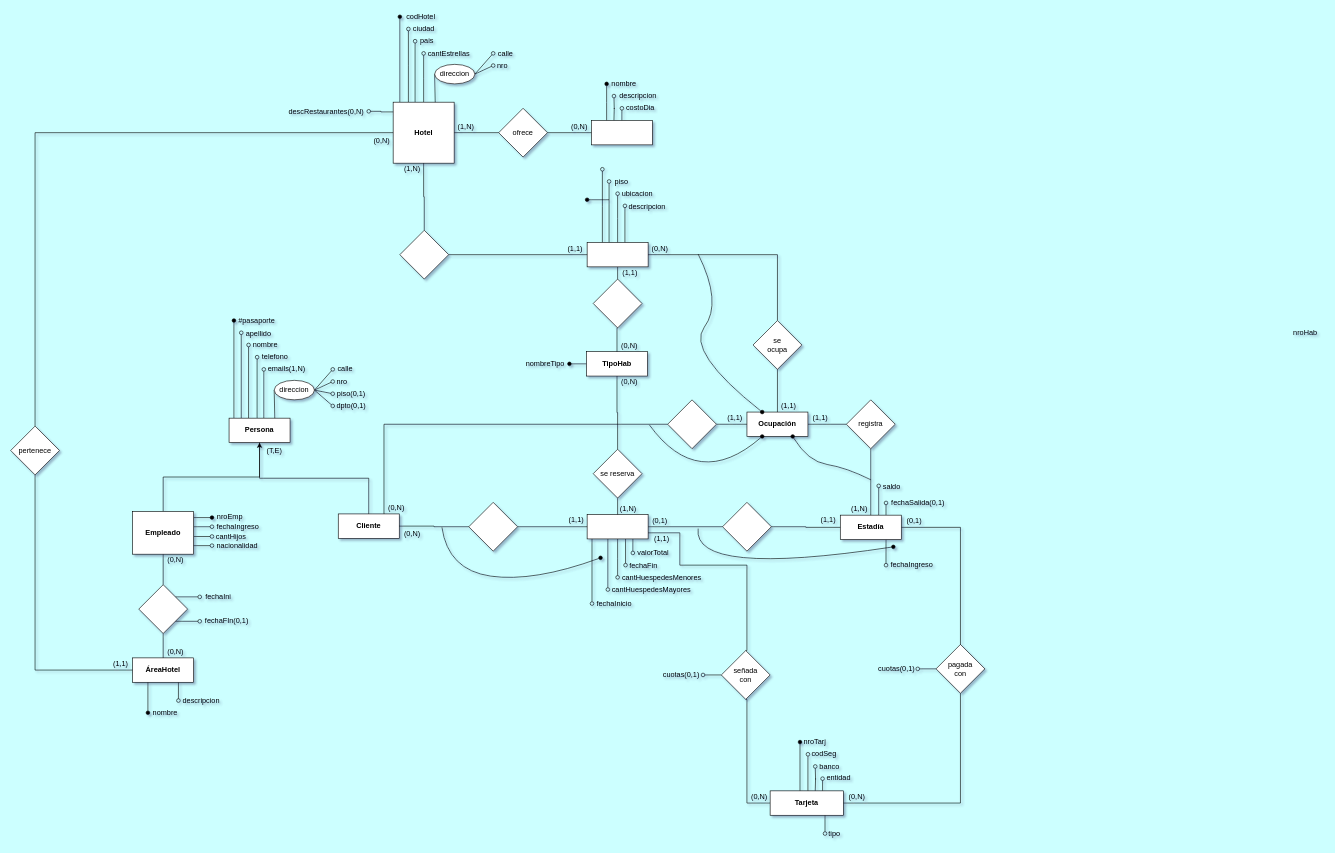
Image size: 1335x853. Some labels were removed from this diagram. The centre of each missing label's shape, as x and y in pixels:
"es tipo" goes at point 617,303.
"Habitación" goes at point 617,254.
"posee hab" goes at point 424,254.
"produce" goes at point 746,526.
"Reserva" goes at point 617,526.
"se hospeda" goes at point 691,424.
"Servicio" goes at point 621,132.
"solicita" goes at point 493,526.
"trabaja" goes at point 163,608.
